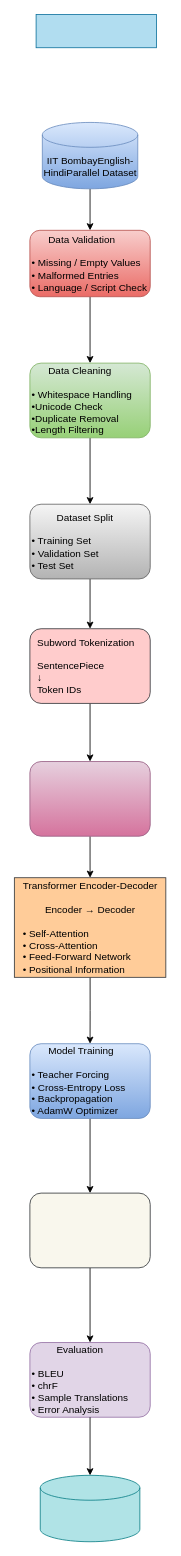
Some shapes in this 181 by 1556 pixel diagram are drawn without their labels. Each missing label, with the centre of its shape:
"Padding & Masks • Padding Mask • Causal Mask" belongs at point (89, 798).
"SAARTHI ML Training Pipeline" belongs at point (95, 31).
"Trained Transformer Model Checkpoint" belongs at point (89, 1508).
"Validation • Validation Loss • Model Performance • Checkpoint Selection" belongs at point (89, 1230).
